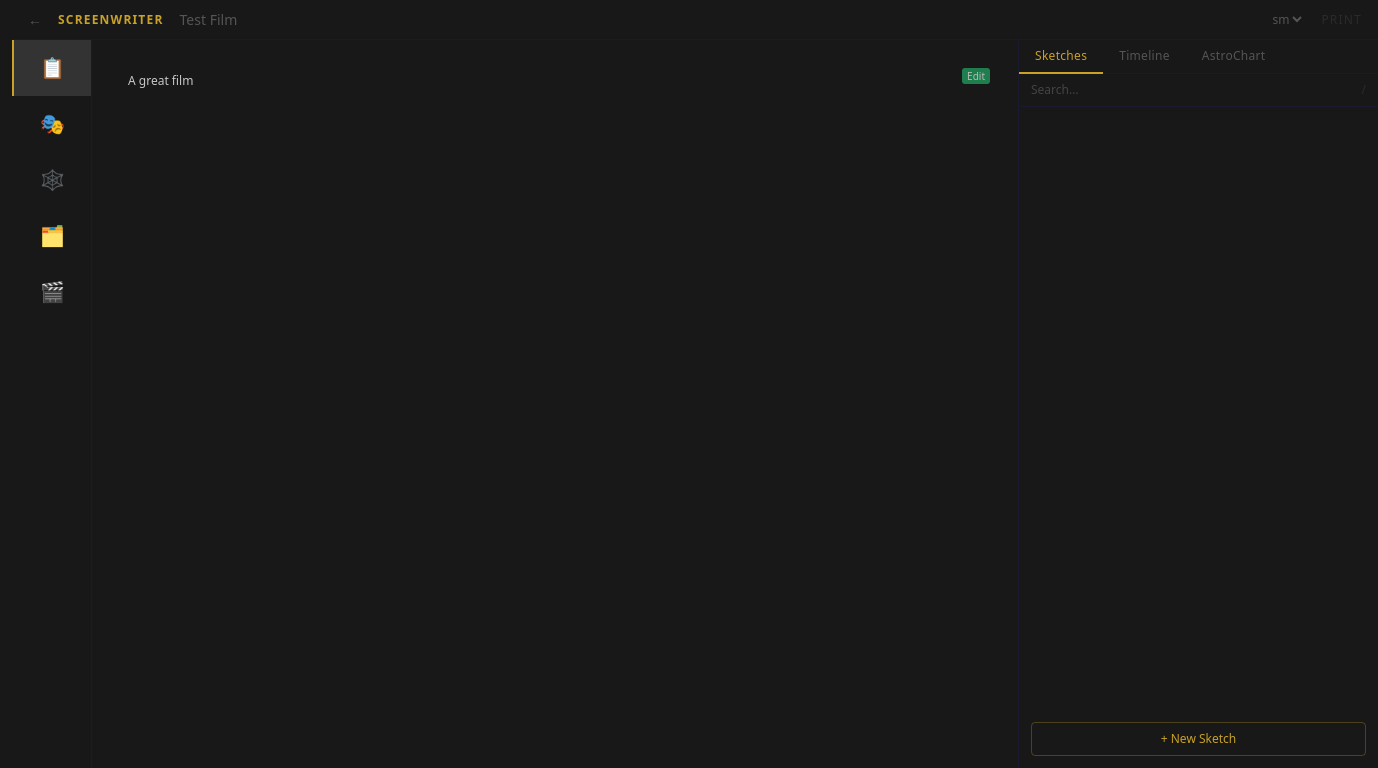
Test: SceneEditor › switches to ScenesPanel when Scenes icon is clicked
Click the button titled "Scenes": x=52, y=292 x1=12 y1=264 x2=91 y2=320
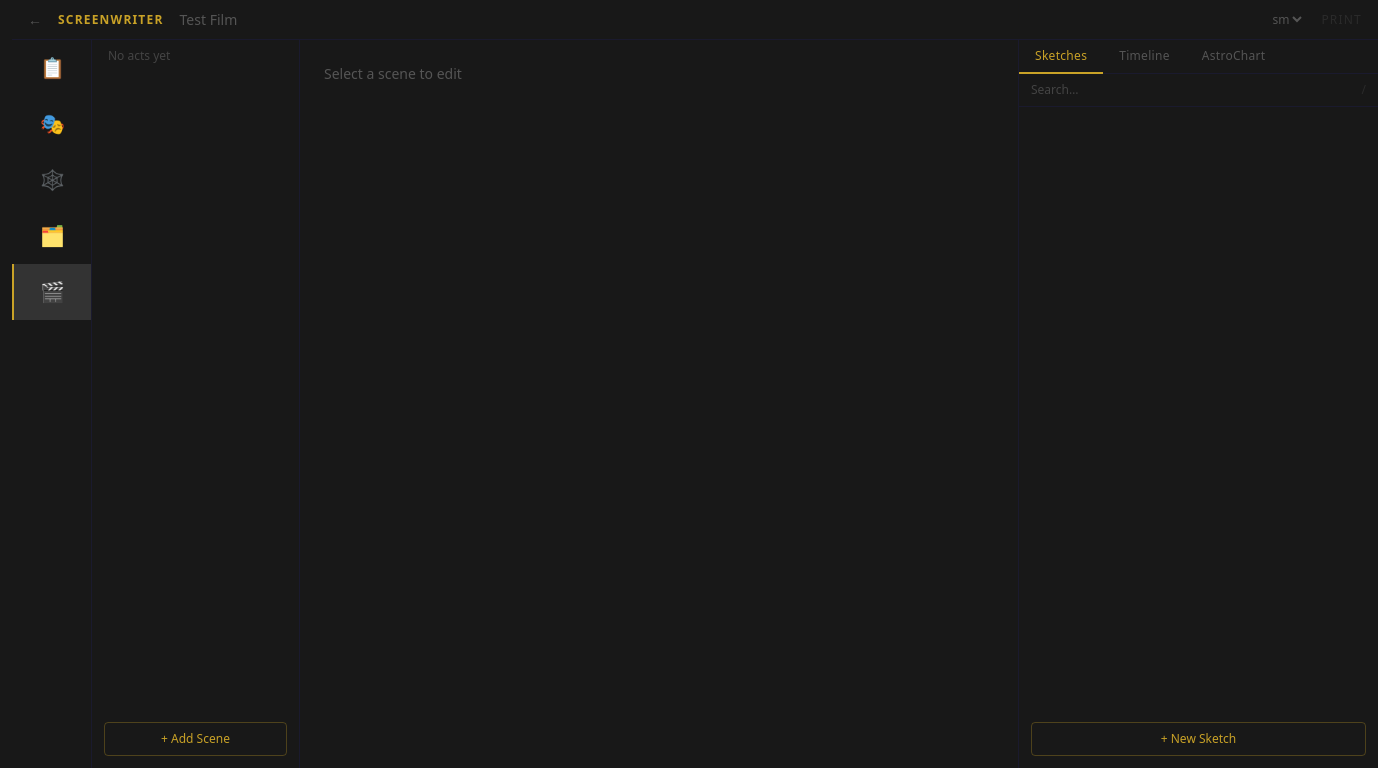
Now the text "Select a scene to edit" is shown, box x1=324 y1=64 x2=462 y2=83
